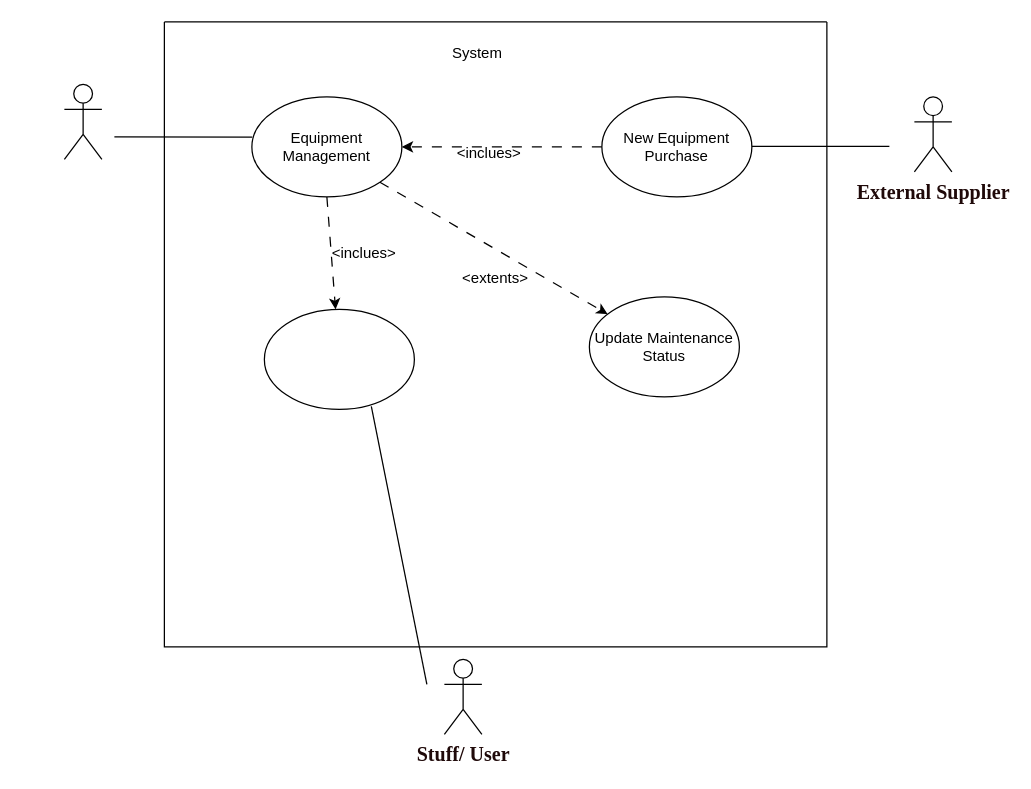
Image size: 1031x789. Some labels were removed from this diagram. Here are the shapes that lost their labels. From the top down, the centre of each, then its label:
At pixel 82 121: "Administrator".
At pixel 338 358: "Check-out/ Return Equipment".
